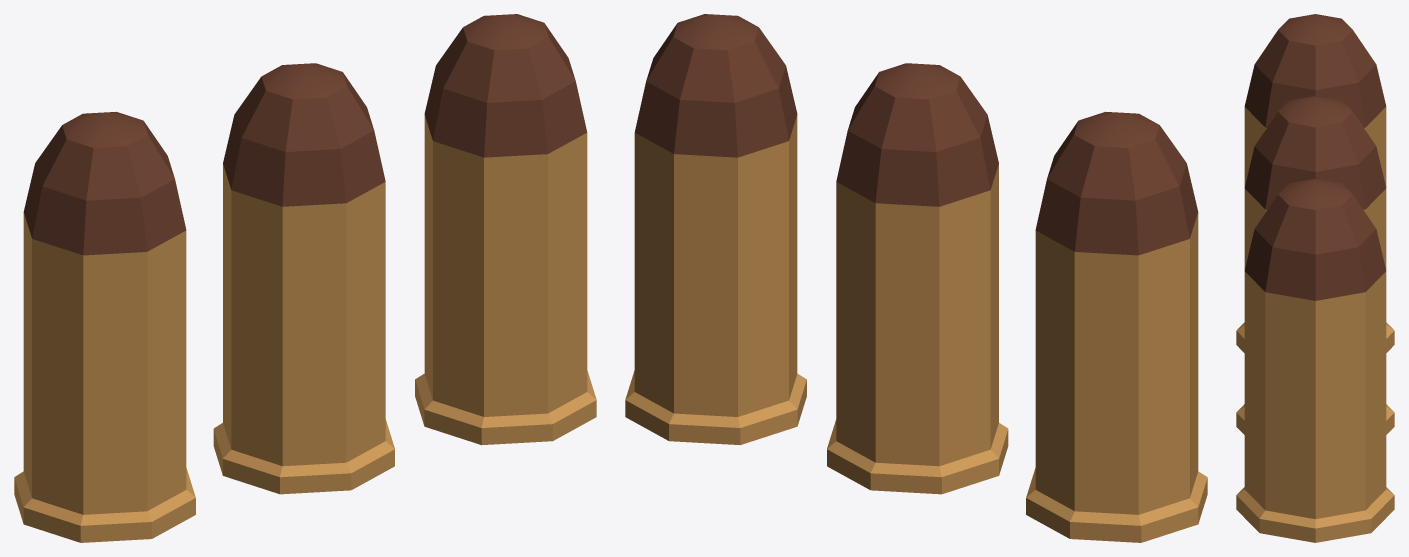
File: SM_Icon_Ammo_02.fbx
The picture shows the model from 3 angles, left to right: view 1: azimuth 30°, elevation 25°; view 2: azimuth 150°, elevation 25°; view 3: azimuth 270°, elevation 25°; orthographic projection. The views are drawn at different scales.
Parts seen in each view (by area): view 1: SM_Icon_Ammo_02; view 2: SM_Icon_Ammo_02; view 3: SM_Icon_Ammo_02.
Part boxes in pixels (box(x1,y1,x2,y2)): SM_Icon_Ammo_02: box(14, 14, 596, 542); SM_Icon_Ammo_02: box(625, 14, 1207, 542); SM_Icon_Ammo_02: box(1236, 14, 1394, 542).
Bounding box in the file's own units: 77.25 × 51.27 × 22.32.
